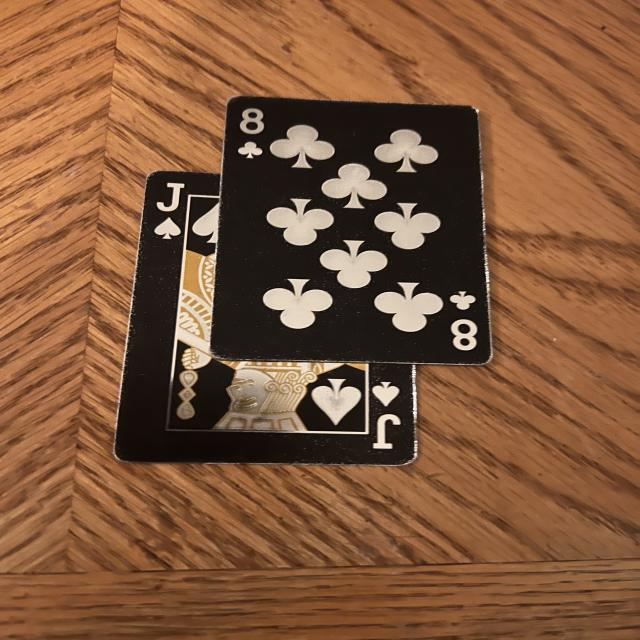8C: (446, 284, 486, 359), (235, 101, 273, 165)
JS: (368, 377, 408, 456), (156, 176, 192, 244)
